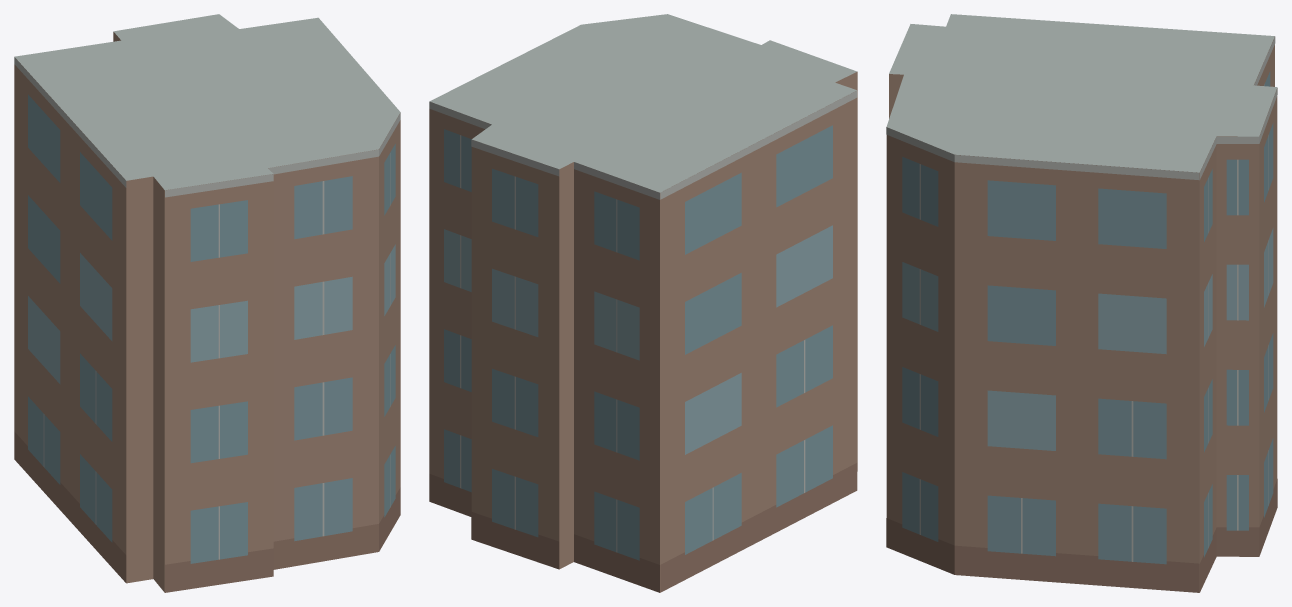
Rendered from survey-upis-32458242.glb.
3 renders of one model, left to right at view 1: azimuth 30°, elevation 25°; view 2: azimuth 150°, elevation 25°; view 3: azimuth 270°, elevation 25°, orthographic. The views are drawn at different scales.
Visible parts, largest first — view 1: survey-upis-32458242.tmp; view 2: survey-upis-32458242.tmp; view 3: survey-upis-32458242.tmp.
Boxes of the visible parts, bbox=[...] form: survey-upis-32458242.tmp: bbox=[14, 14, 400, 592]; survey-upis-32458242.tmp: bbox=[429, 14, 857, 592]; survey-upis-32458242.tmp: bbox=[886, 14, 1277, 592].
Size of the model in its own units: 10.94 by 13.5 by 11.4.
